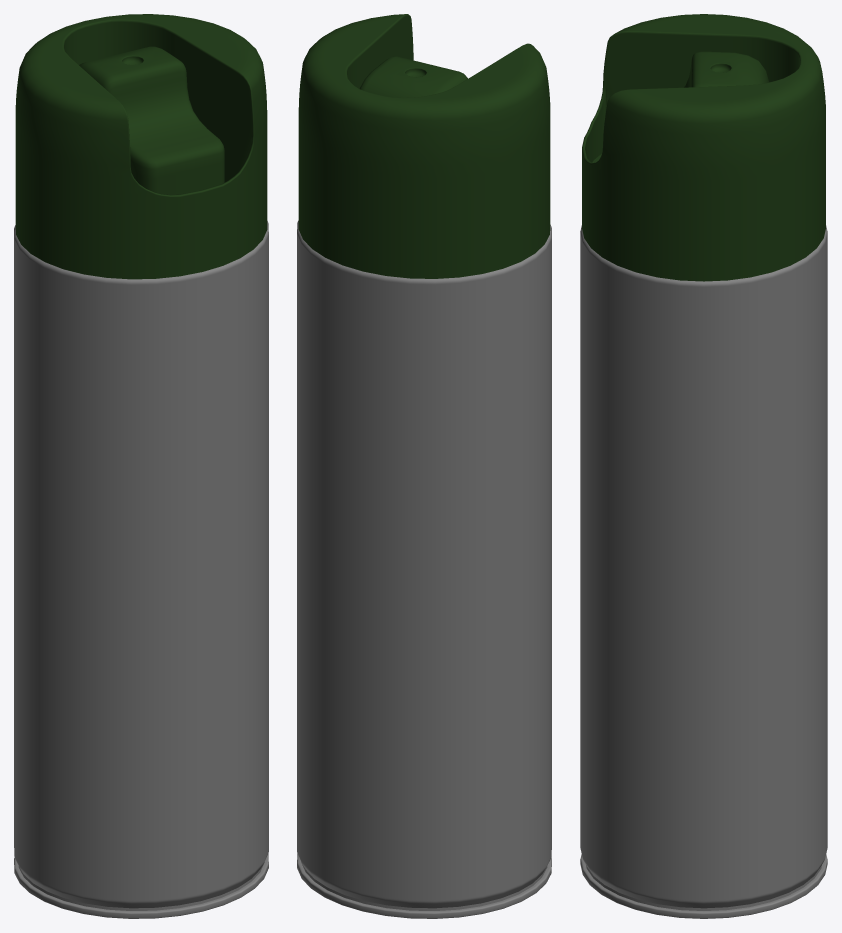
Rendered from 杀虫剂.FBX.
3 renders of one model, left to right at view 1: azimuth 30°, elevation 25°; view 2: azimuth 150°, elevation 25°; view 3: azimuth 270°, elevation 25°, orthographic.
Parts seen in each view (by area): view 1: 杀虫剂; view 2: 杀虫剂; view 3: 杀虫剂.
Boxes of the visible parts, x1=… form: 杀虫剂: x1=14, y1=14, x2=268, y2=918; 杀虫剂: x1=297, y1=14, x2=551, y2=918; 杀虫剂: x1=580, y1=14, x2=827, y2=918.
Bounding box in the file's own units: 3.85 × 13.3 × 3.7.
